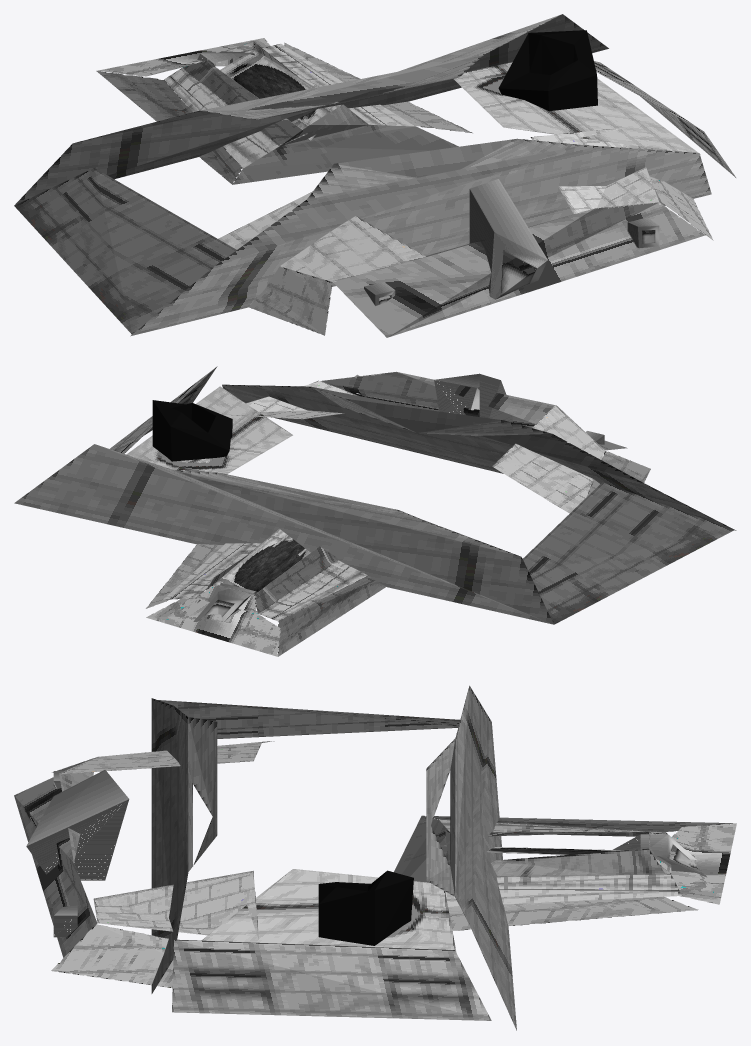
File: wrckice.obj
3 views of the same model, one above another, from view 1: azimuth 30°, elevation 25°; view 2: azimuth 150°, elevation 25°; view 3: azimuth 270°, elevation 25° (orthographic). The views are drawn at different scales.
Size of the model in its own units: 10.16 by 1.39 by 9.3.
20 materials, 19 textured.
